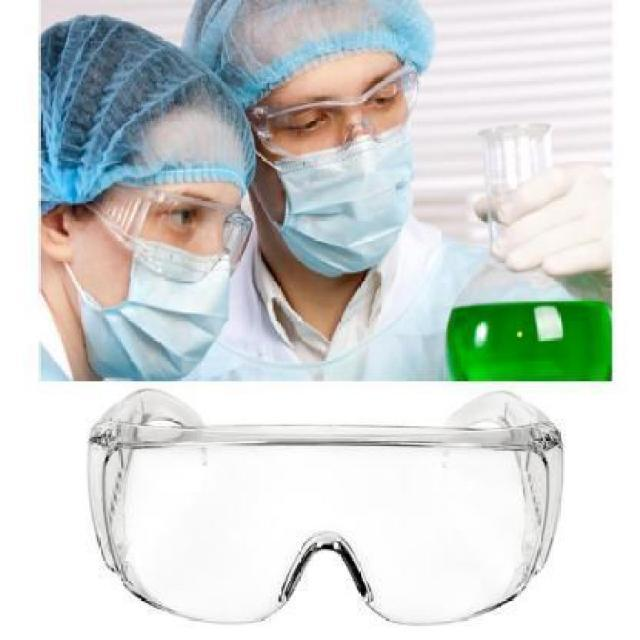Goggles: (56, 385, 613, 633), (243, 59, 437, 164), (68, 173, 256, 279)
